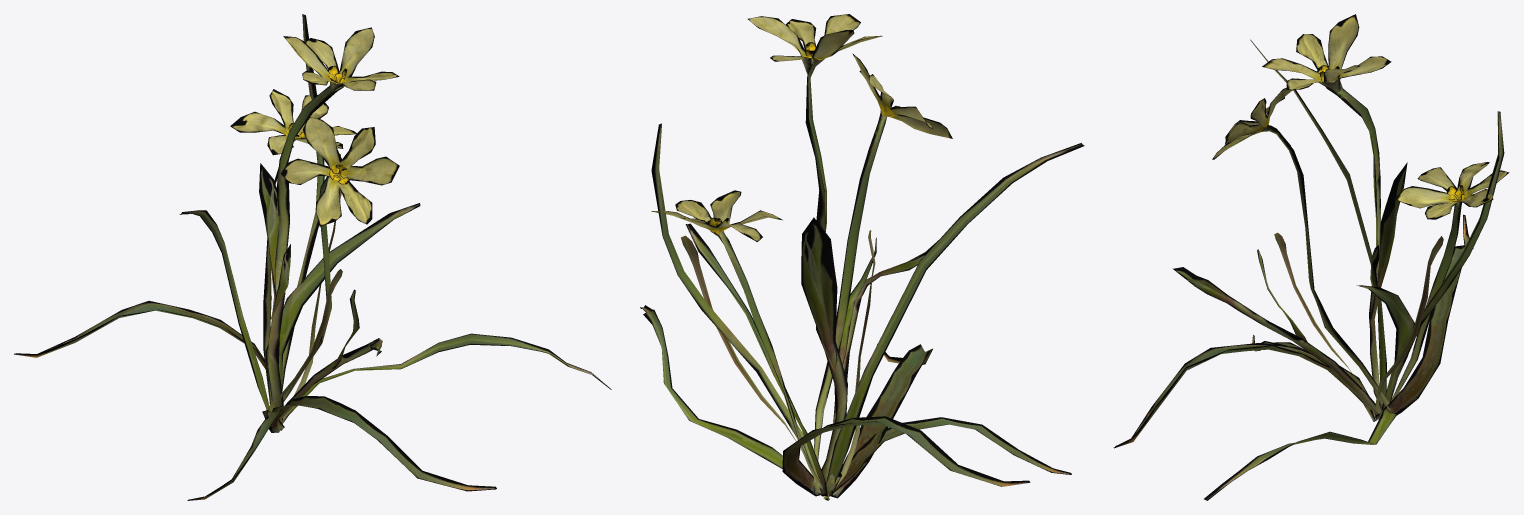
The model's file is flower_empodium_2.gltf.
3 renders of one model, left to right at view 1: azimuth 30°, elevation 25°; view 2: azimuth 150°, elevation 25°; view 3: azimuth 270°, elevation 25°, orthographic. The views are drawn at different scales.
Parts seen in each view (by area): view 1: flower_empodium_c_LOD0; view 2: flower_empodium_c_LOD0; view 3: flower_empodium_c_LOD0.
Part boxes in pixels (bbox=[...]): flower_empodium_c_LOD0: bbox=[14, 14, 611, 500]; flower_empodium_c_LOD0: bbox=[640, 14, 1084, 500]; flower_empodium_c_LOD0: bbox=[1113, 14, 1509, 500].
Bounding box in the file's own units: 0.2169 × 0.1786 × 0.1579.
1 material, 1 textured.
